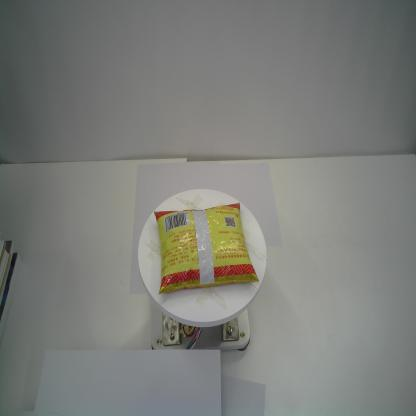Seasoner: (153, 202, 260, 295)
